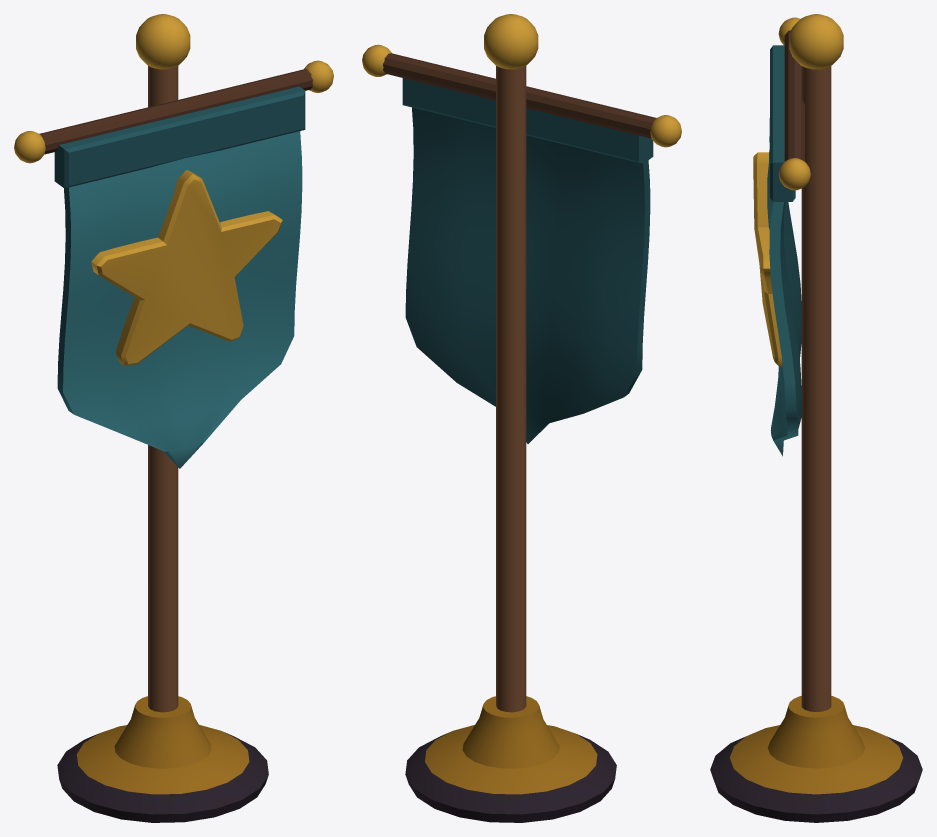
The model's file is Banner_11.glb.
3 renders of one model, left to right at view 1: azimuth 30°, elevation 25°; view 2: azimuth 150°, elevation 25°; view 3: azimuth 270°, elevation 25°, orthographic.
Visible parts, largest first — view 1: Banner_11; view 2: Banner_11; view 3: Banner_11.
Part boxes in pixels (x1,y1,x2,y2): Banner_11: (14,14,333,822); Banner_11: (362,14,681,822); Banner_11: (710,14,922,822).
Bounding box in the file's own units: 3.36 × 7.75 × 1.96.
